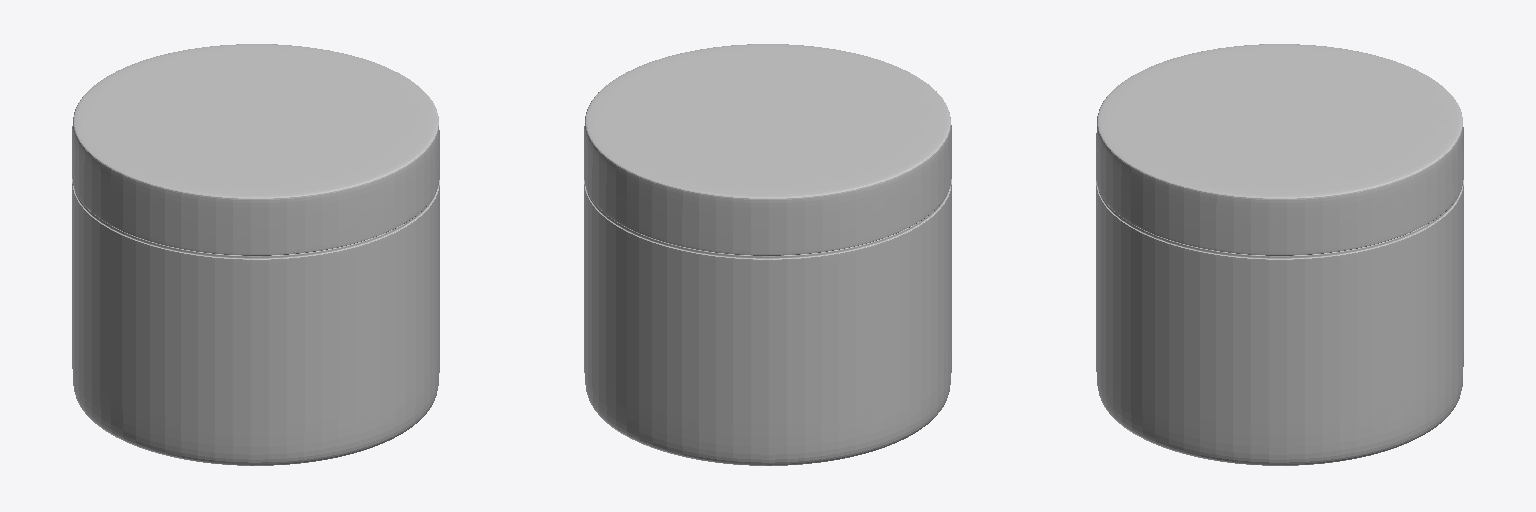
File: Elysium_Basis_v02.obj
3 renders of one model, left to right at view 1: azimuth 30°, elevation 25°; view 2: azimuth 150°, elevation 25°; view 3: azimuth 270°, elevation 25°, orthographic.
Visible parts, largest first — view 1: Base, Top_on.1; view 2: Base, Top_on.1; view 3: Base, Top_on.1.
Part boxes in pixels (x1,y1,x2,y2): Base: (72,179,439,465); Top_on.1: (72,44,439,255); Base: (584,179,951,465); Top_on.1: (584,44,951,255); Base: (1096,180,1463,465); Top_on.1: (1096,44,1463,255).
Size of the model in its own units: 6.89 by 5.62 by 6.89.